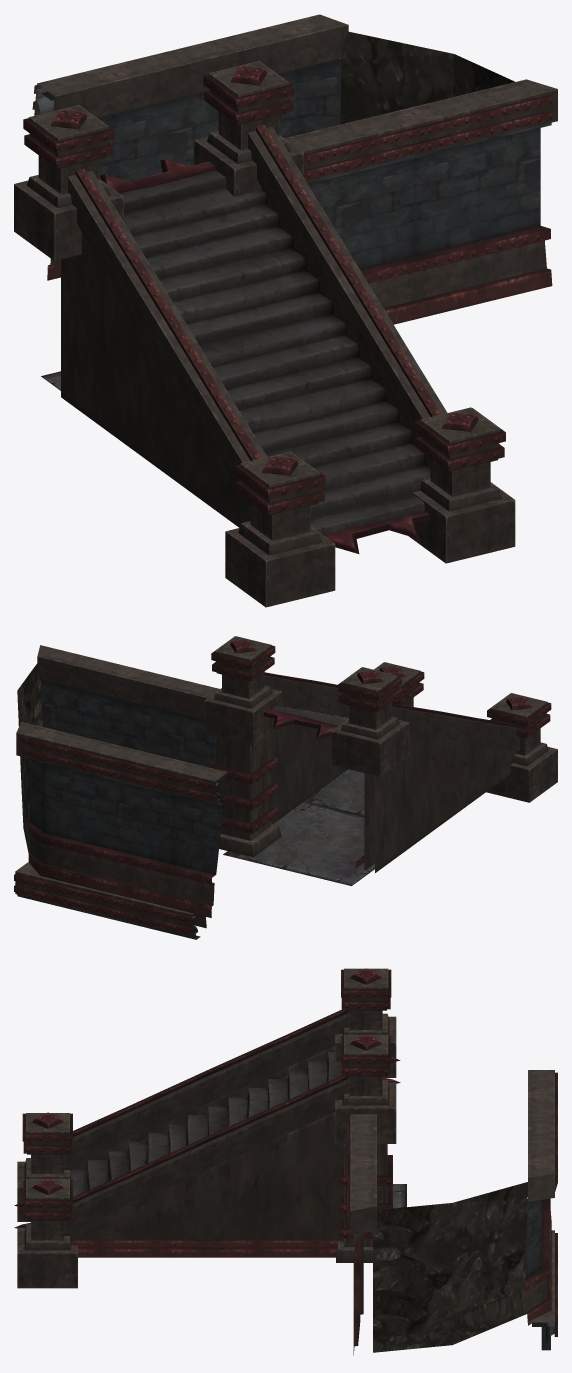
Rendered from mesh_tower_02.FBX.
The picture shows the model from 3 angles, top to bottom: view 1: azimuth 30°, elevation 25°; view 2: azimuth 150°, elevation 25°; view 3: azimuth 270°, elevation 25°; orthographic projection. The views are drawn at different scales.
Visible parts, largest first — view 1: mesh_tower_02; view 2: mesh_tower_02; view 3: mesh_tower_02.
Boxes of the visible parts, x1,y1,x2,y2 form: mesh_tower_02: (14, 14, 557, 607); mesh_tower_02: (14, 636, 557, 939); mesh_tower_02: (14, 968, 557, 1355).
Size of the model in its own units: 11.22 by 6.6 by 13.68.
